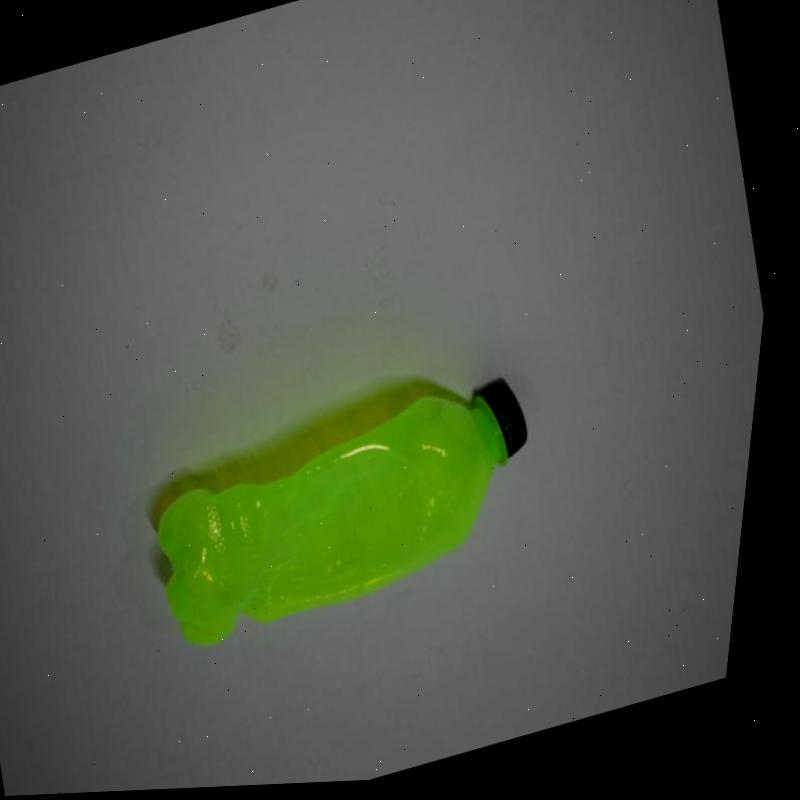botella: (132, 364, 573, 663)
